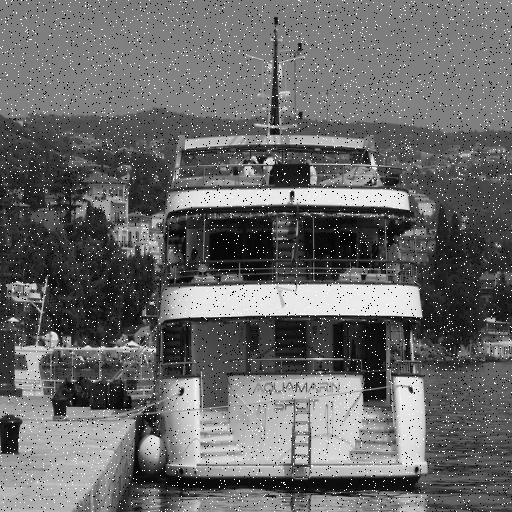cruises: (138, 17, 432, 497)
